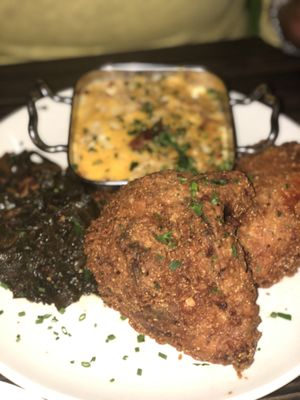sandwich: (68, 68, 237, 185)
sushi: (82, 170, 263, 371)
